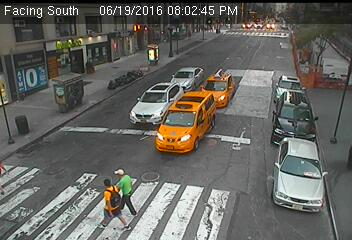neg: (108, 64, 145, 112), (83, 63, 111, 101), (56, 98, 75, 122), (143, 49, 160, 71), (160, 36, 172, 53)
pos: (88, 176, 123, 222), (118, 168, 148, 208)
